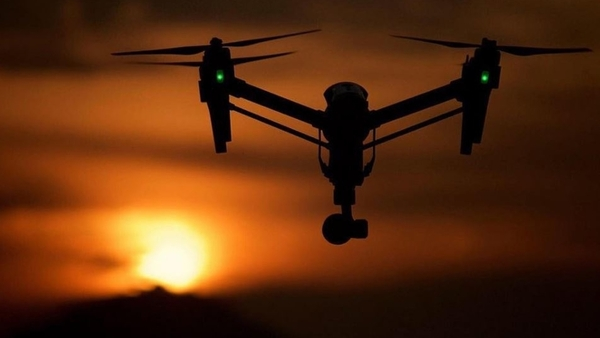drone: (110, 26, 594, 246)
